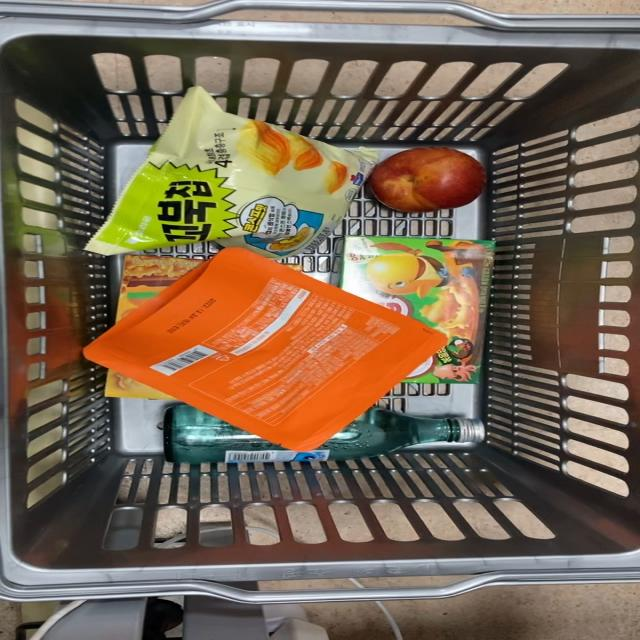ggobukchip: (84, 88, 376, 248), (380, 141, 500, 215)
